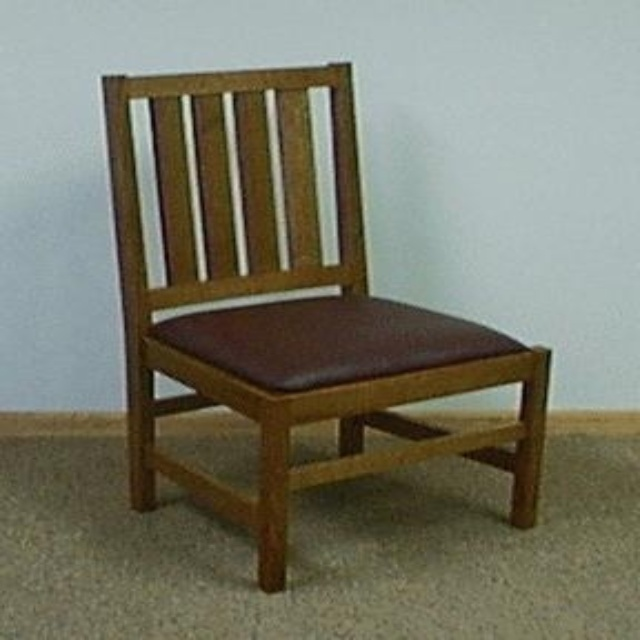obstacle: (104, 64, 549, 591)
